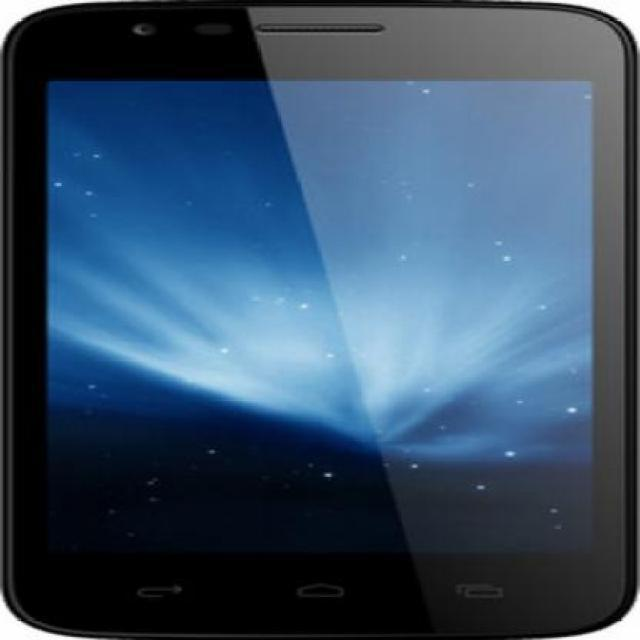phone: (12, 5, 640, 623)
